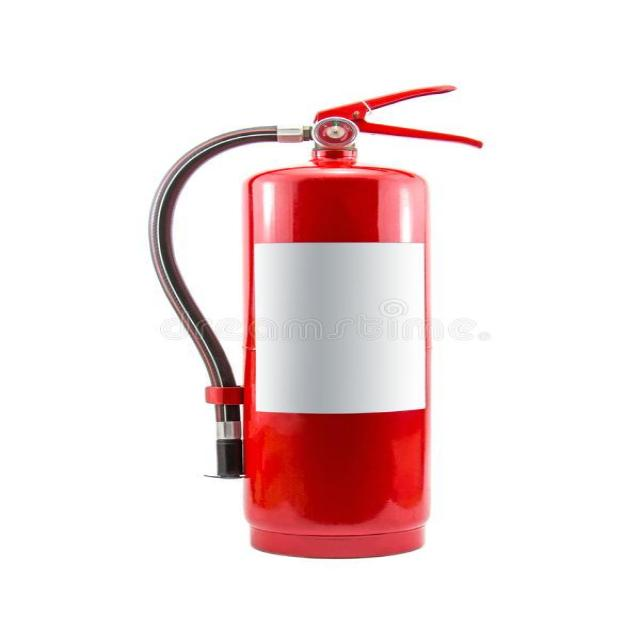fire_extinguisher: (142, 80, 491, 564)
